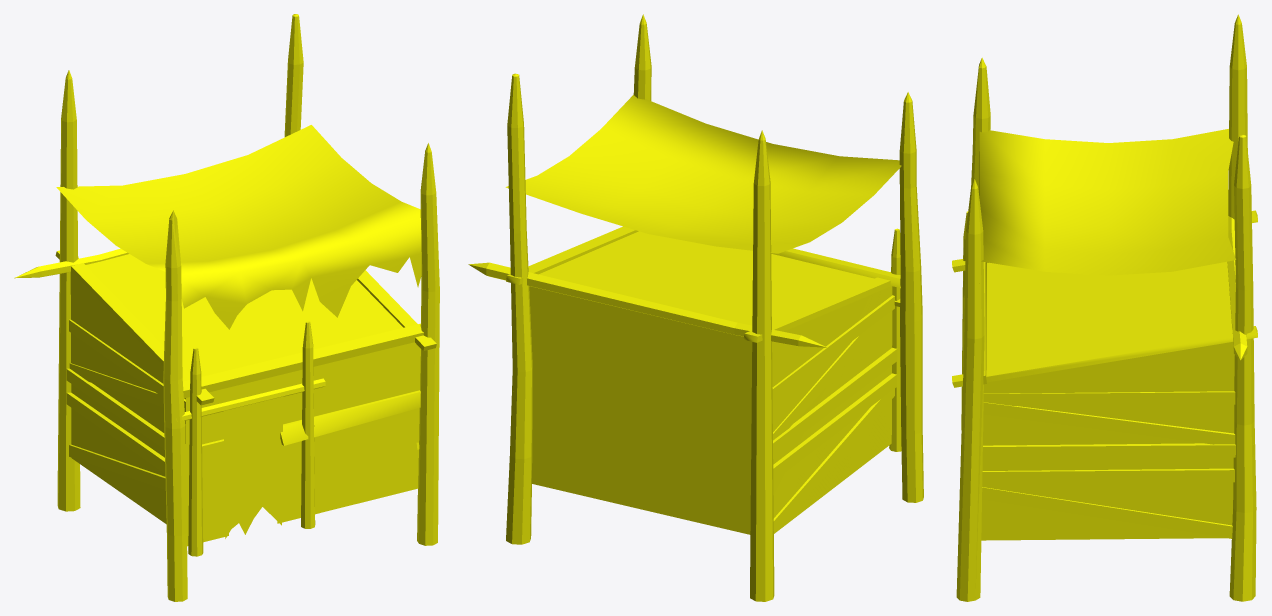
The model's file is gaint_buildb_02.glb.
The picture shows the model from 3 angles, left to right: view 1: azimuth 30°, elevation 25°; view 2: azimuth 150°, elevation 25°; view 3: azimuth 270°, elevation 25°; orthographic projection. The views are drawn at different scales.
Parts seen in each view (by area): view 1: Object25, objobjobjObject05, Object02, Object01; view 2: Object25, objobjobjObject05, Object02, Object01; view 3: Object25, objobjobjObject05, Object02, Object01.
Part boxes in pixels (<box>): Object25: <box>55,250,436,546</box>; objobjobjObject05: <box>56,125,421,329</box>; Object02: <box>57,14,439,601</box>; Object01: <box>14,248,325,556</box>; Object25: <box>506,226,900,534</box>; objobjobjObject05: <box>505,95,901,253</box>; Object02: <box>506,14,923,601</box>; Object01: <box>468,228,901,451</box>; Object25: <box>952,210,1257,540</box>; objobjobjObject05: <box>978,129,1235,275</box>; Object02: <box>956,14,1256,601</box>; Object01: <box>961,211,1247,429</box>.
Size of the model in its own units: 9.75 by 12.25 by 7.3.
4 materials, 4 textured.
